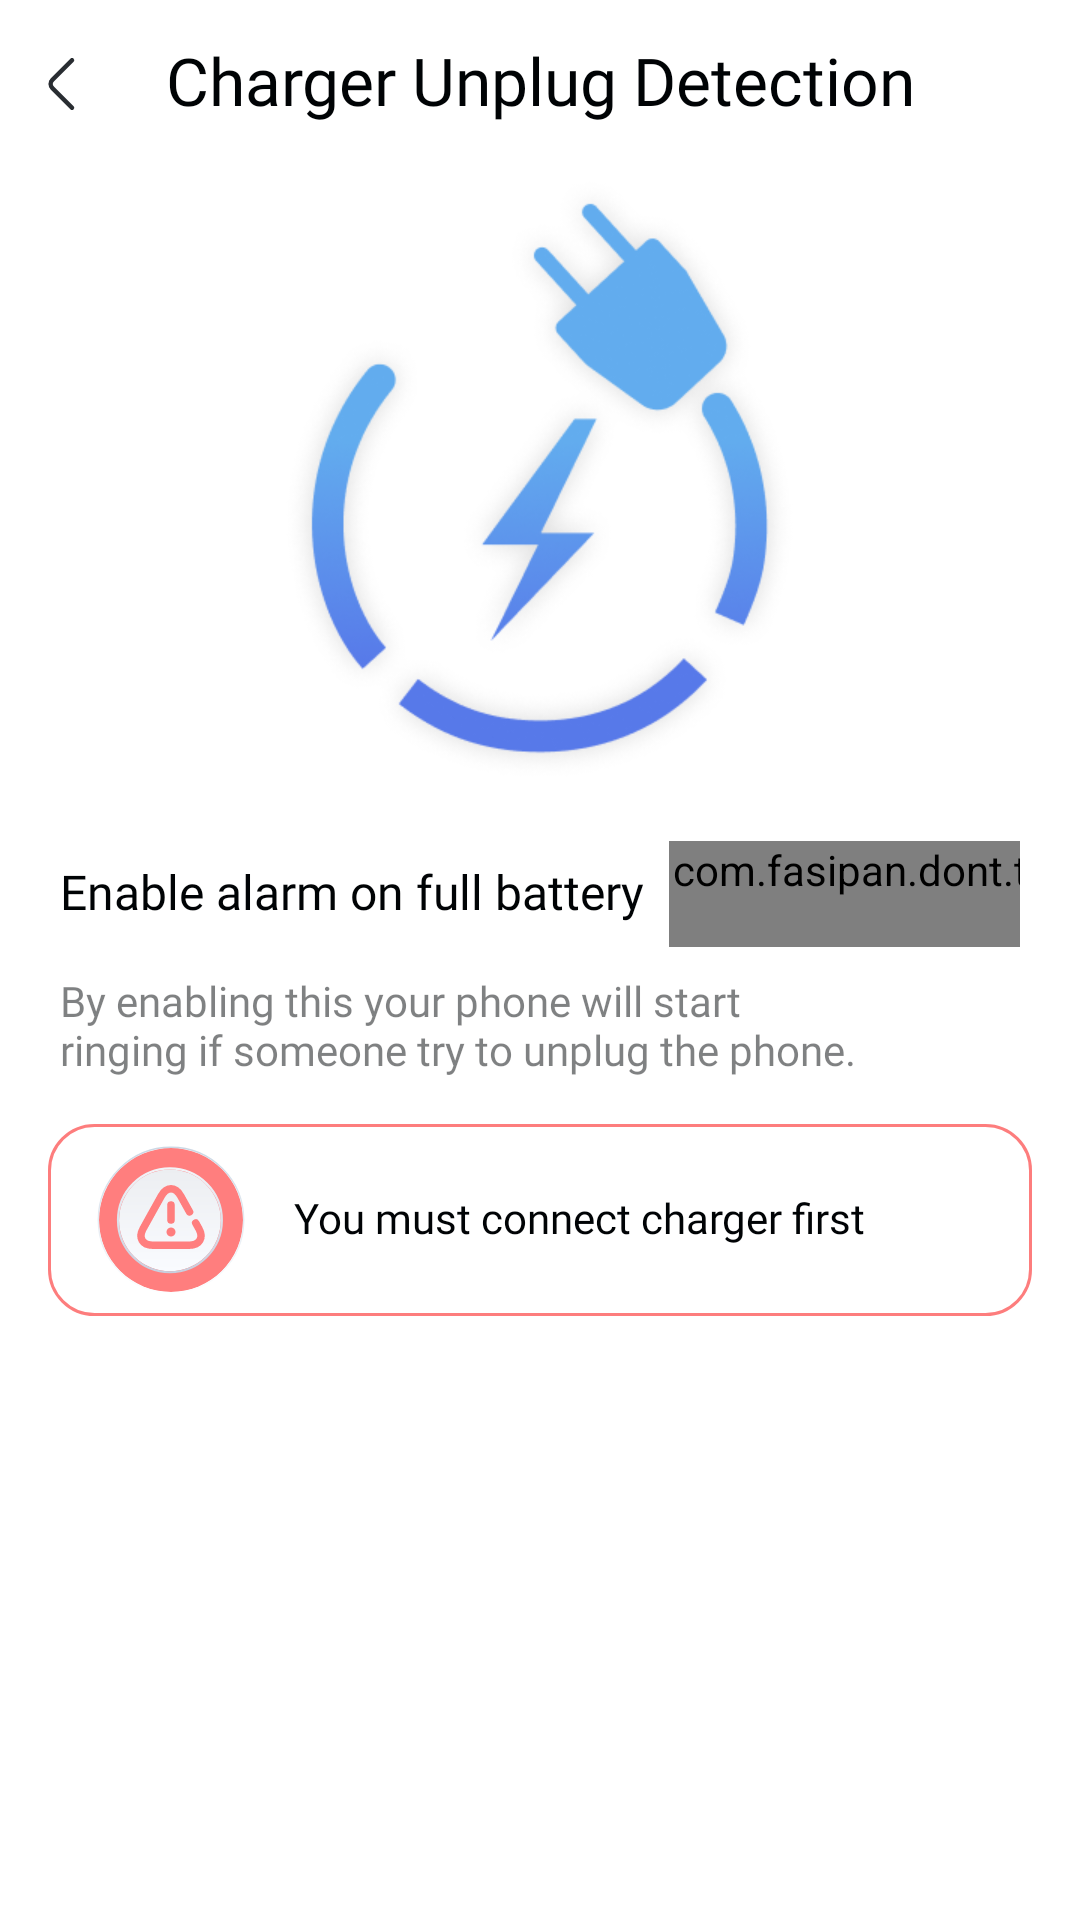

Icon click points for this 1080 x 1920 phone screenshot, format (x,y):
back: (61,84)
